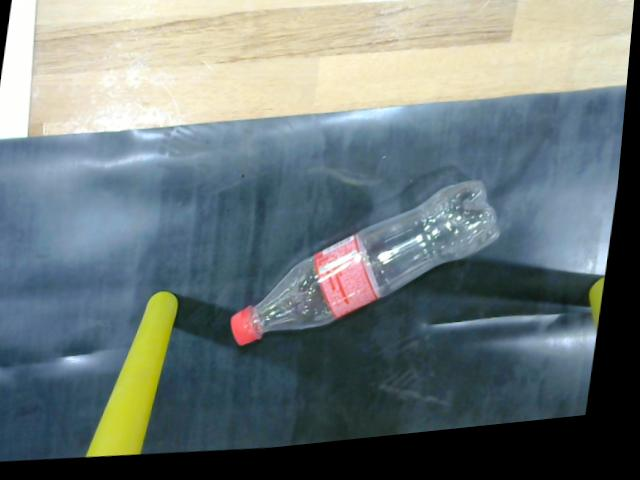bottle: (239, 178, 513, 361)
